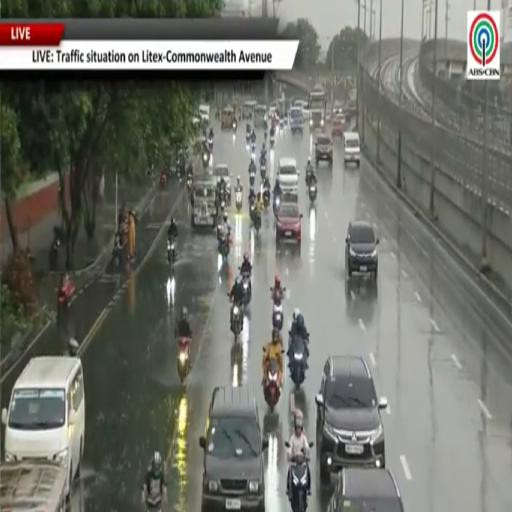car: (2, 357, 85, 495), (316, 356, 387, 483), (200, 387, 268, 511), (327, 468, 404, 511), (345, 220, 378, 281), (276, 202, 302, 244), (213, 164, 232, 203), (277, 157, 299, 188), (343, 132, 360, 167), (315, 135, 332, 164), (289, 107, 303, 135), (331, 114, 345, 138), (199, 104, 209, 124)
jeepney: (0, 460, 68, 511), (191, 179, 217, 228), (221, 106, 235, 129), (254, 105, 267, 129), (243, 101, 257, 119)
motorcycle: (289, 453, 308, 511), (264, 358, 281, 411), (289, 338, 307, 387), (177, 338, 190, 383), (270, 287, 283, 330), (231, 304, 242, 340), (218, 227, 229, 260), (242, 272, 251, 308), (49, 238, 59, 270), (146, 492, 162, 511), (113, 240, 122, 267), (167, 239, 175, 265), (273, 194, 281, 217), (253, 210, 261, 233), (262, 188, 270, 210), (309, 183, 317, 202), (236, 190, 242, 212), (305, 167, 312, 185), (203, 151, 210, 168), (261, 160, 266, 181), (160, 173, 167, 188), (186, 175, 192, 191), (250, 202, 255, 221), (250, 169, 255, 186), (220, 198, 225, 212), (208, 138, 213, 152), (270, 134, 275, 148), (202, 134, 207, 146), (279, 118, 284, 129), (233, 120, 237, 133), (246, 133, 250, 145), (251, 140, 255, 152), (264, 130, 267, 140)
truck: (309, 87, 326, 129)
